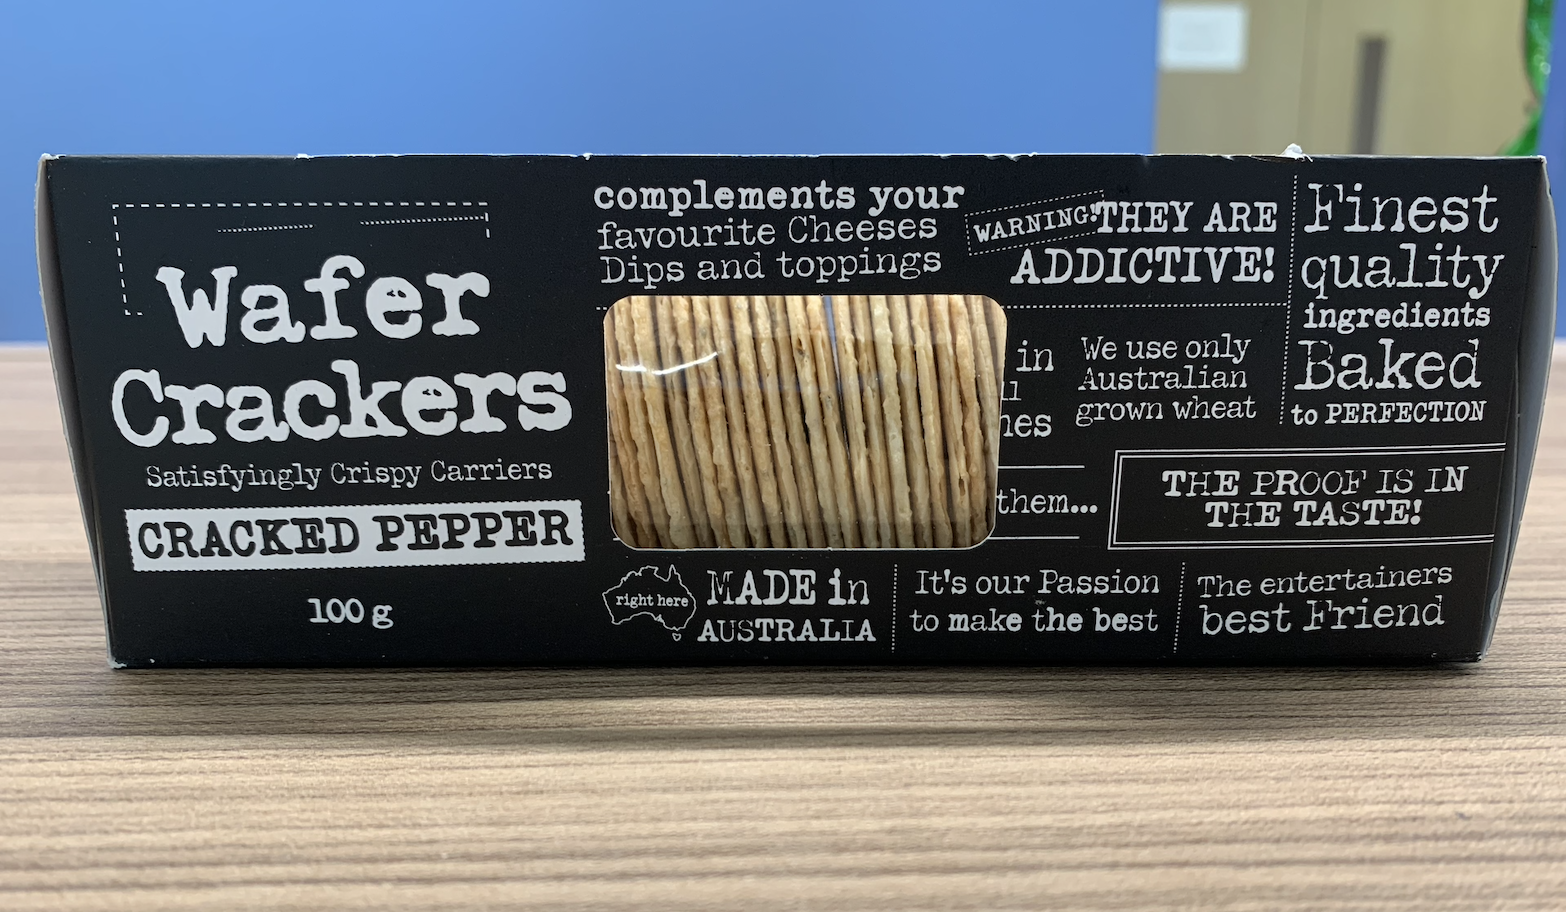crackers_100g-199g: (102, 174, 1491, 647)
